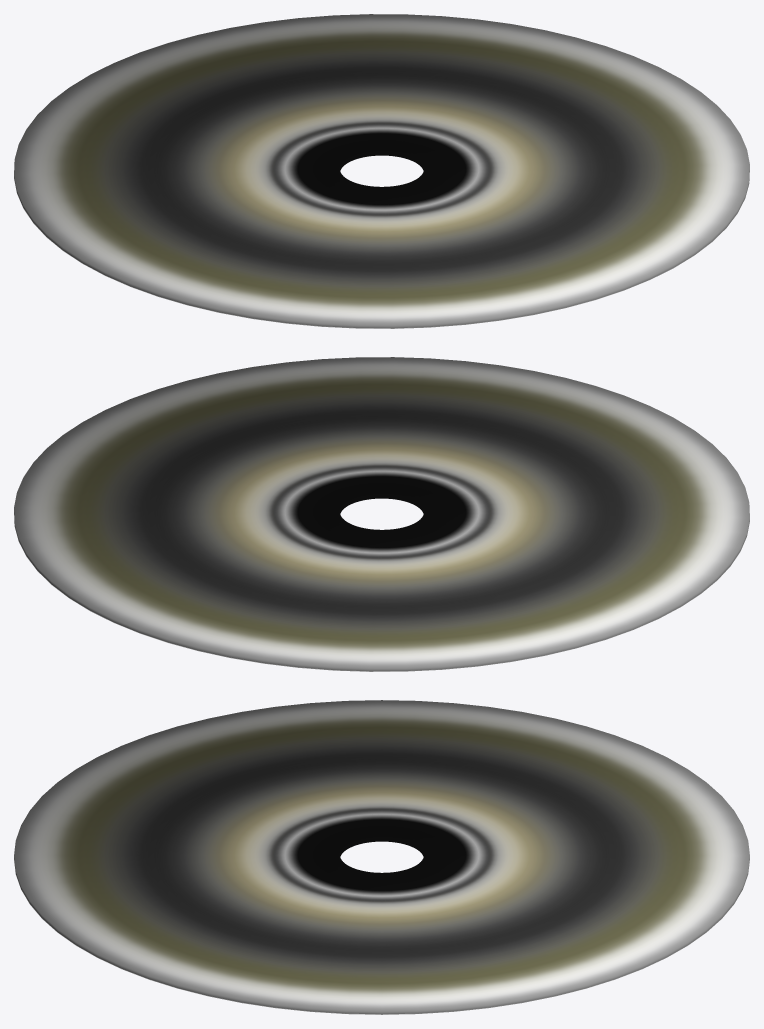
File: Mainrotor_Disk - Copy.fbx
3 renders of one model, top to bottom at view 1: azimuth 30°, elevation 25°; view 2: azimuth 150°, elevation 25°; view 3: azimuth 270°, elevation 25°, orthographic.
Parts seen in each view (by area): view 1: BO105_Mainrotor_Disk; view 2: BO105_Mainrotor_Disk; view 3: BO105_Mainrotor_Disk.
Boxes of the visible parts, bbox=[...] form: BO105_Mainrotor_Disk: bbox=[14, 14, 749, 328]; BO105_Mainrotor_Disk: bbox=[14, 357, 749, 671]; BO105_Mainrotor_Disk: bbox=[14, 700, 749, 1014].
Bounding box in the file's own units: 155 × 0.9804 × 155.
2 materials, 2 textured.
